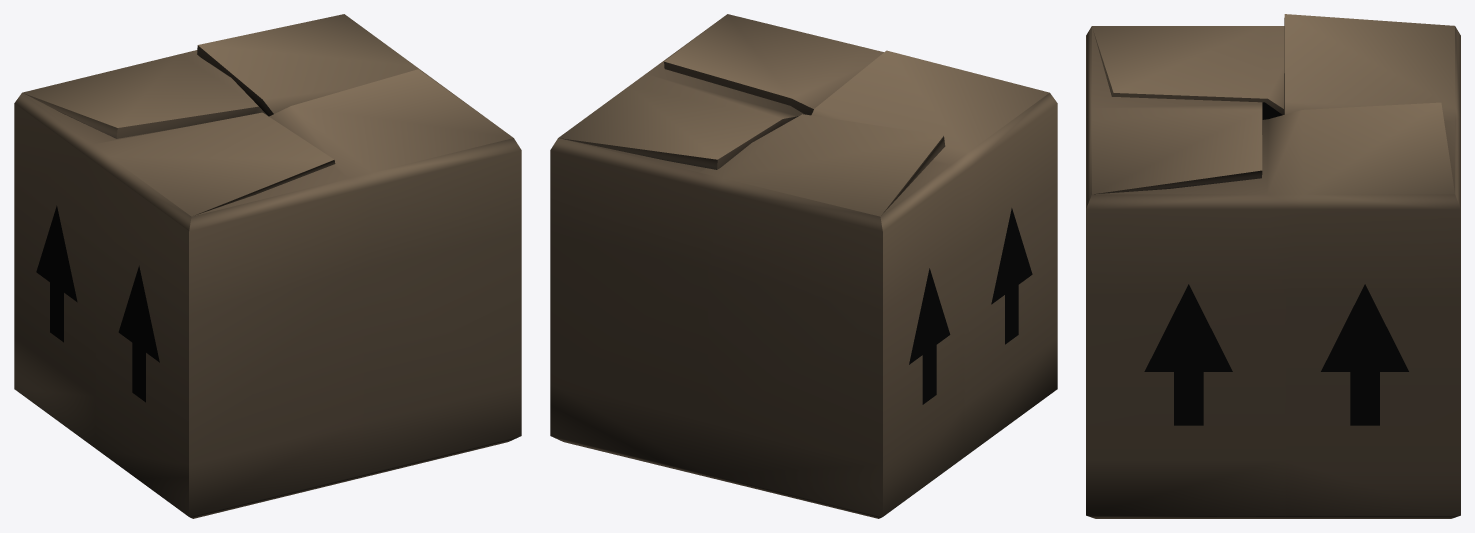
File: human-containers-cardboard-box_v1.glb
The picture shows the model from 3 angles, left to right: view 1: azimuth 30°, elevation 25°; view 2: azimuth 150°, elevation 25°; view 3: azimuth 270°, elevation 25°; orthographic projection. The views are drawn at different scales.
Visible parts, largest first — view 1: Cardboard Box_v1; view 2: Cardboard Box_v1; view 3: Cardboard Box_v1.
Boxes of the visible parts, box(x1,y1,x2,y2) form: Cardboard Box_v1: box(14, 14, 521, 518); Cardboard Box_v1: box(550, 14, 1057, 518); Cardboard Box_v1: box(1086, 14, 1460, 518).
Bounding box in the file's own units: 0.5 × 0.459 × 0.45.
